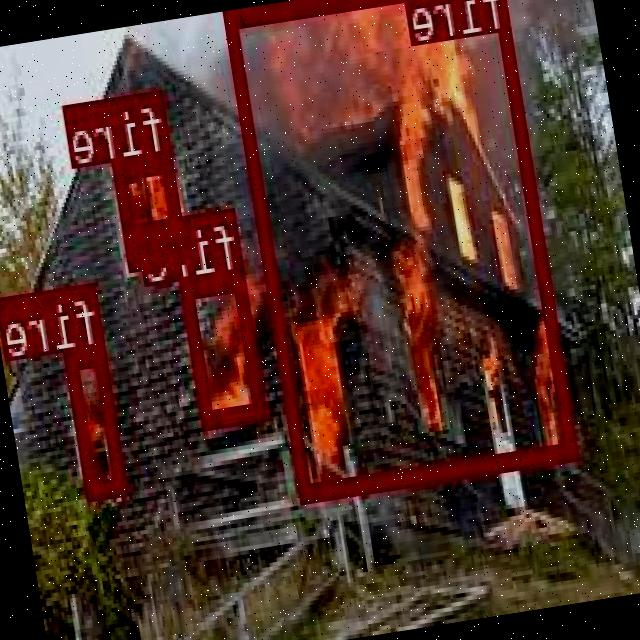fire: (225, 0, 582, 501), (182, 270, 269, 424), (66, 343, 130, 497), (116, 152, 190, 268)
